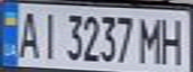2: (78, 11, 100, 63)
3: (60, 9, 84, 62), (100, 11, 121, 63)
7: (115, 12, 139, 64)
A: (12, 7, 42, 60)
H: (157, 14, 190, 65)
I: (36, 8, 60, 61)
M: (136, 13, 166, 64)
